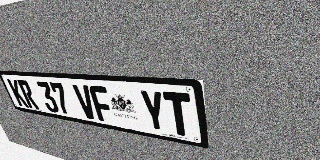3: (36, 81, 60, 113)
7: (48, 82, 73, 116)
F: (88, 85, 116, 123)
K: (7, 79, 29, 108)
R: (17, 80, 40, 110)
T: (163, 91, 194, 138)
V: (72, 84, 99, 120)
Y: (138, 89, 169, 133)
